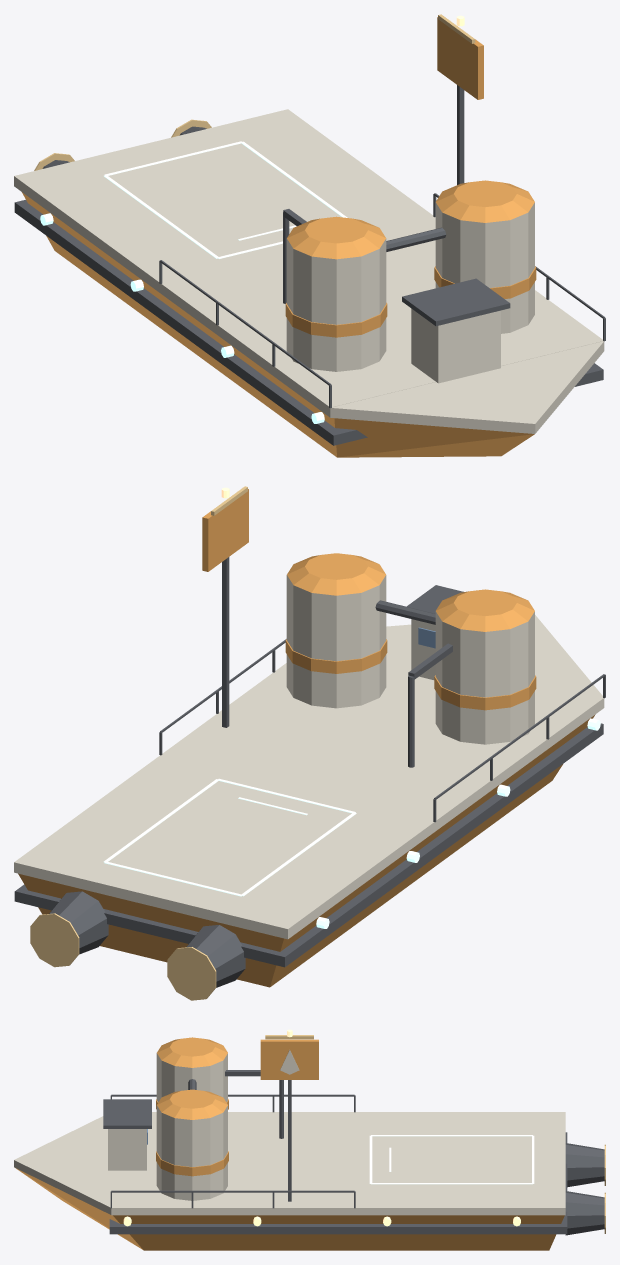
Rendered from FuelBarge.fbx.
3 renders of one model, top to bottom at view 1: azimuth 30°, elevation 25°; view 2: azimuth 150°, elevation 25°; view 3: azimuth 270°, elevation 25°, orthographic. The views are drawn at different scales.
Visible parts, largest first — view 1: Barge, Marking, Lights; view 2: Barge, Lights, Marking; view 3: Barge, Marking, Lights.
Boxes of the visible parts, x1=… form: Barge: x1=14, y1=17, x2=605, y2=457; Marking: x1=104, y1=141, x2=347, y2=258; Lights: x1=34, y1=14, x2=475, y2=423; Barge: x1=14, y1=489, x2=605, y2=987; Lights: x1=30, y1=486, x2=600, y2=1000; Marking: x1=103, y1=778, x2=356, y2=896; Barge: x1=14, y1=1037, x2=604, y2=1250; Marking: x1=369, y1=1135, x2=534, y2=1184; Lights: x1=123, y1=1029, x2=605, y2=1233.
Bounding box in the file's own units: 14.5 × 15.18 × 36.49.
